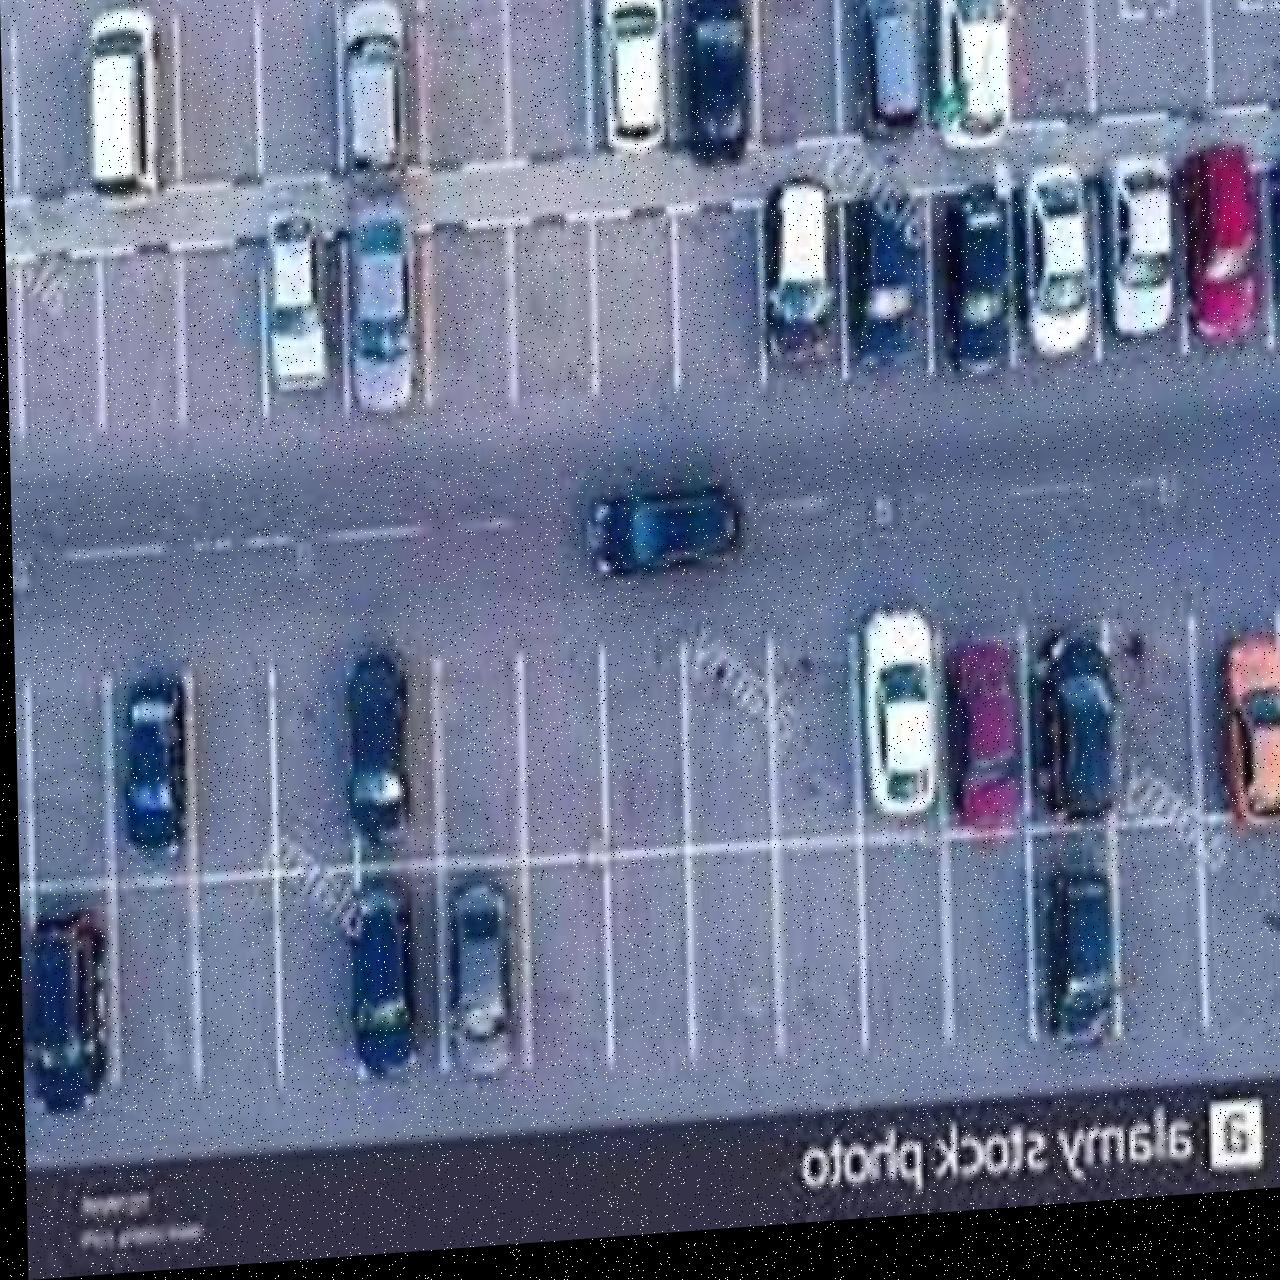car: (18, 907, 109, 1114), (1030, 635, 1119, 840), (856, 614, 939, 833), (1180, 157, 1266, 366), (342, 879, 420, 1087), (343, 200, 416, 420), (945, 649, 1022, 853), (584, 491, 741, 588), (1035, 878, 1114, 1067), (760, 185, 837, 376), (442, 884, 513, 1088), (1022, 178, 1096, 375), (87, 7, 162, 200), (940, 196, 1014, 392), (928, 0, 1014, 166), (1104, 170, 1177, 358), (342, 651, 409, 851), (852, 205, 924, 384), (339, 0, 409, 181), (1214, 647, 1280, 840), (597, 0, 672, 168), (682, 0, 754, 176), (120, 676, 185, 858), (266, 213, 327, 396), (855, 0, 927, 150), (1271, 165, 1280, 334)
